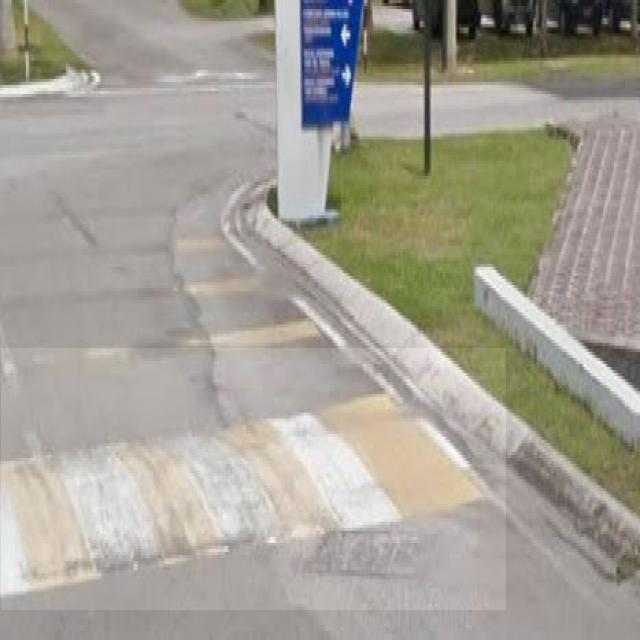speed-bump: (1, 348, 506, 610)
